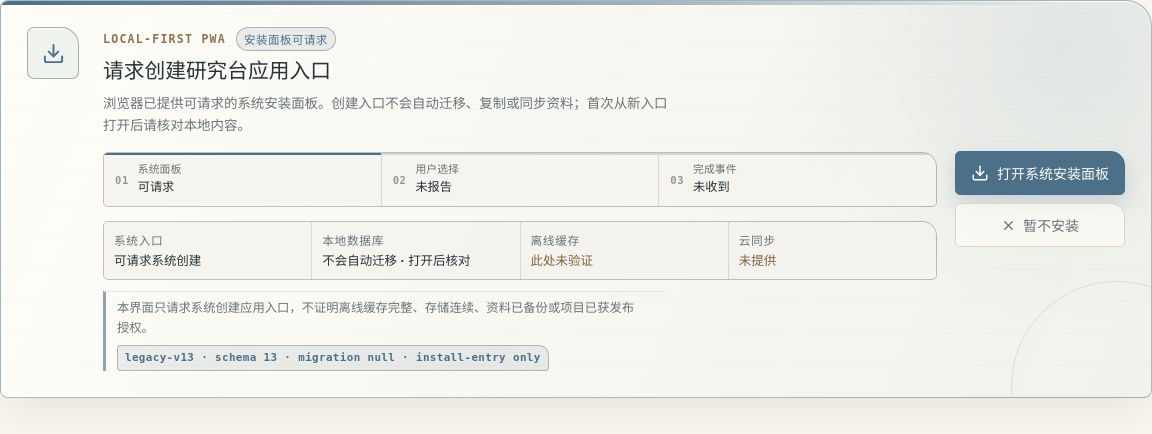
PwaInstallBanner › 安装面板失败时给出警报且不回报成功
Click the button "打开系统安装面板" at (1040, 173), box [955,151,1125,195]
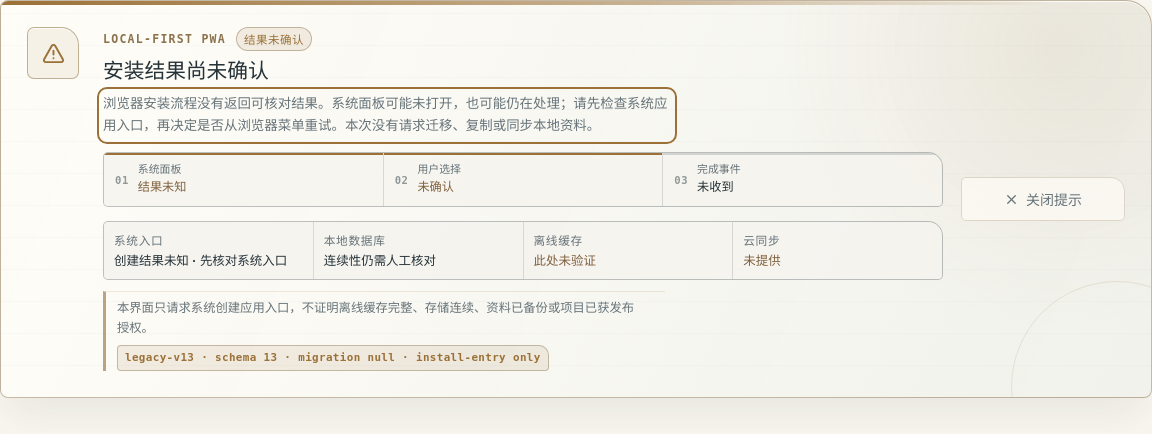
Result: the message shows "浏览器安装流程没有返回可核对结果" at [103,96,667,133]
